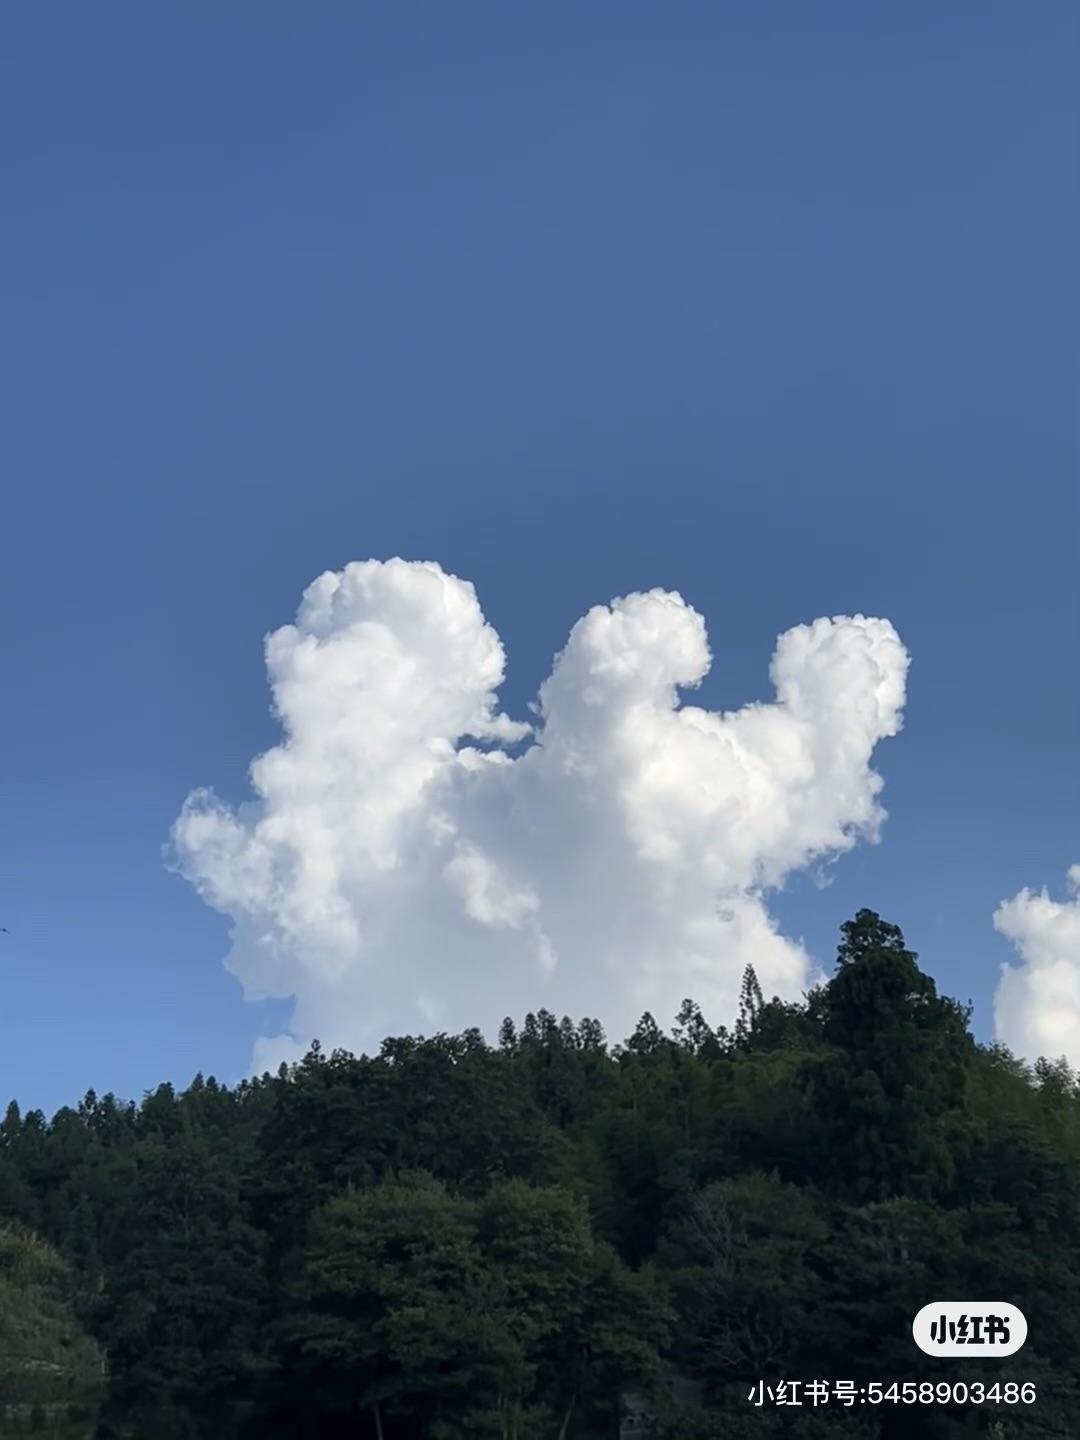Cumulus: (104, 486, 916, 1024)
